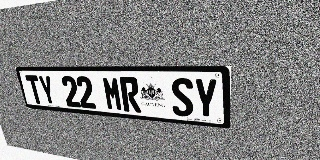2: (75, 76, 96, 109), (60, 76, 81, 107)
M: (102, 76, 123, 111)
R: (119, 77, 141, 113)
S: (170, 78, 194, 117)
T: (25, 75, 44, 104)
Y: (193, 78, 218, 119), (37, 75, 57, 105)
